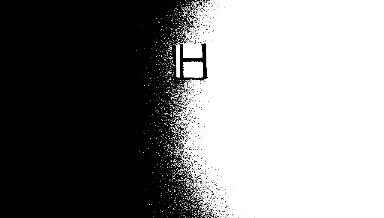H: (173, 44, 211, 77)
